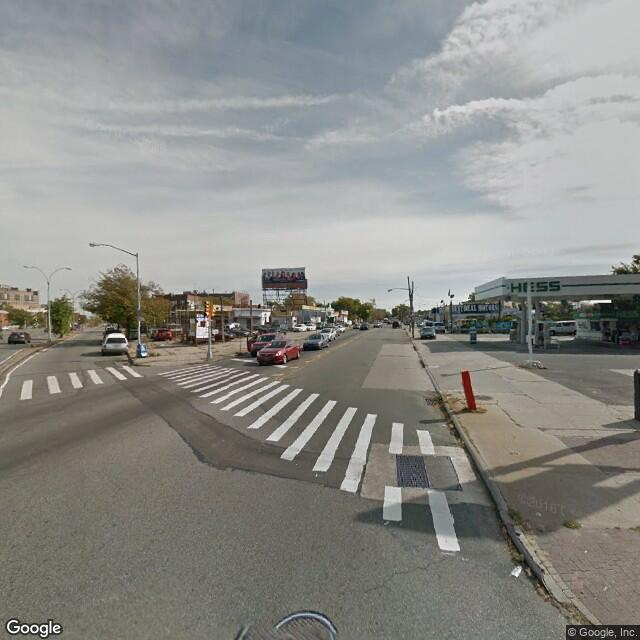litter: (509, 560, 527, 580), (437, 414, 450, 433)
